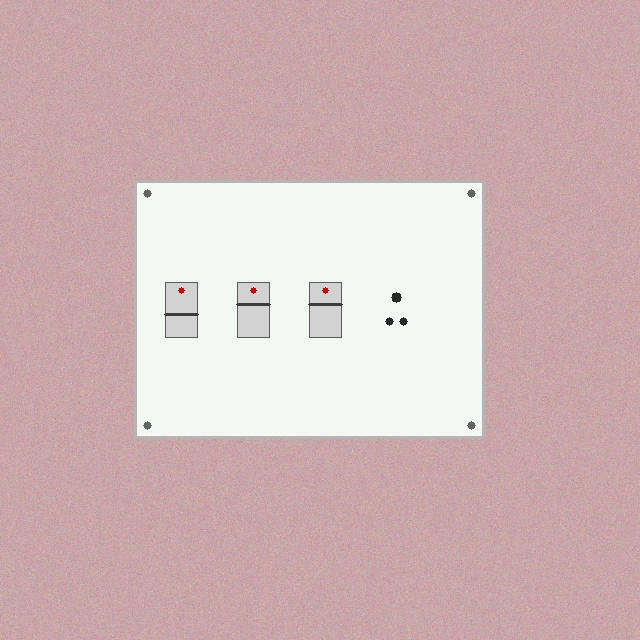switchboard: (135, 181, 483, 437)
